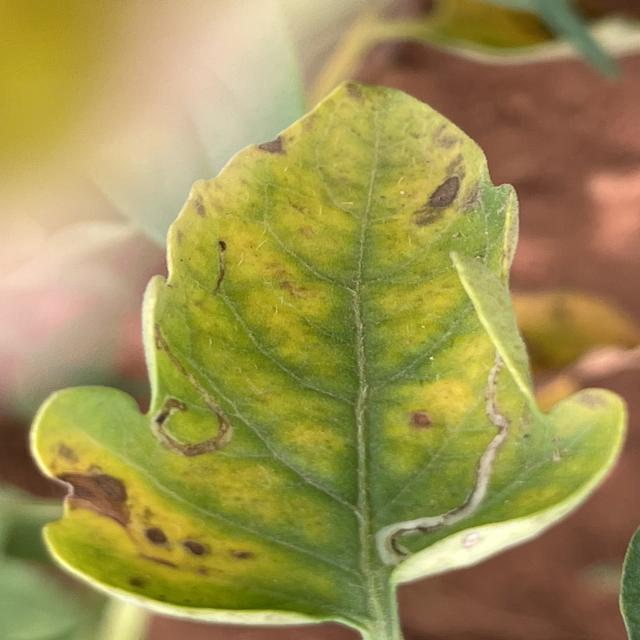tomato_early blight: (31, 82, 626, 620)
